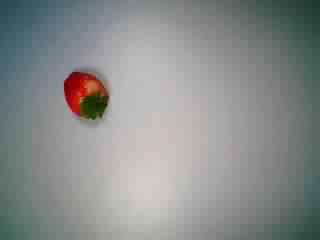strawberry: (50, 62, 118, 126)
